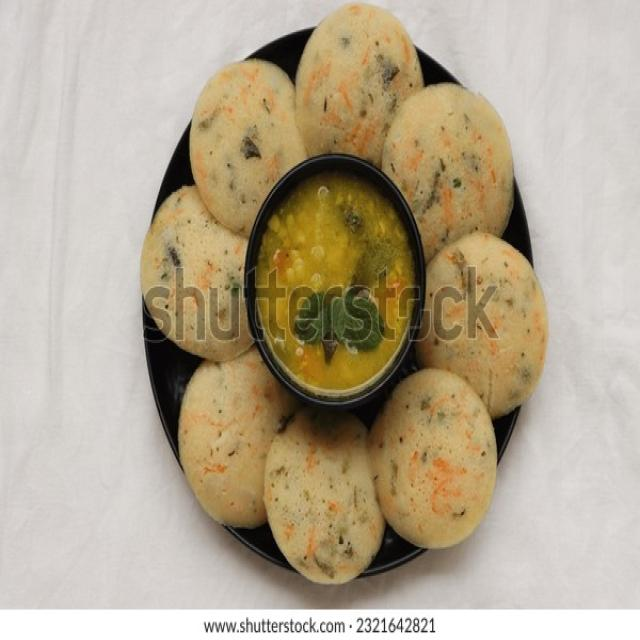IDLI: (416, 233, 547, 418), (382, 84, 513, 259), (370, 369, 496, 547), (263, 410, 385, 582), (190, 61, 307, 235), (179, 350, 293, 526), (297, 5, 422, 162), (141, 186, 252, 360)
